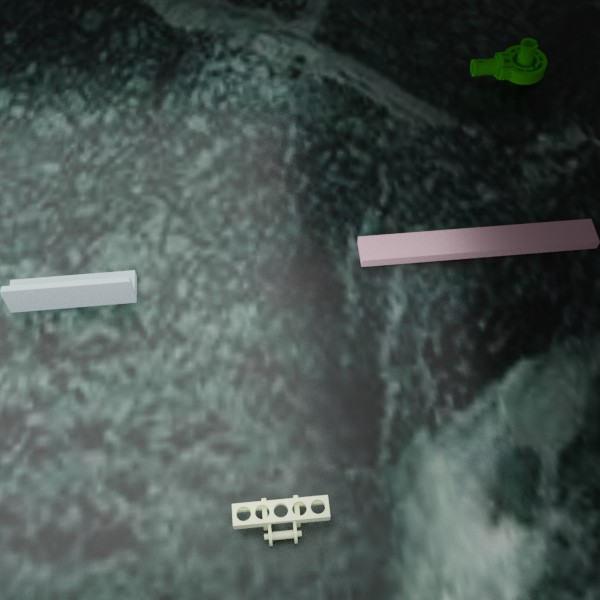lego: (357, 218, 600, 266), (0, 270, 136, 312), (231, 494, 330, 546), (470, 37, 547, 84)
